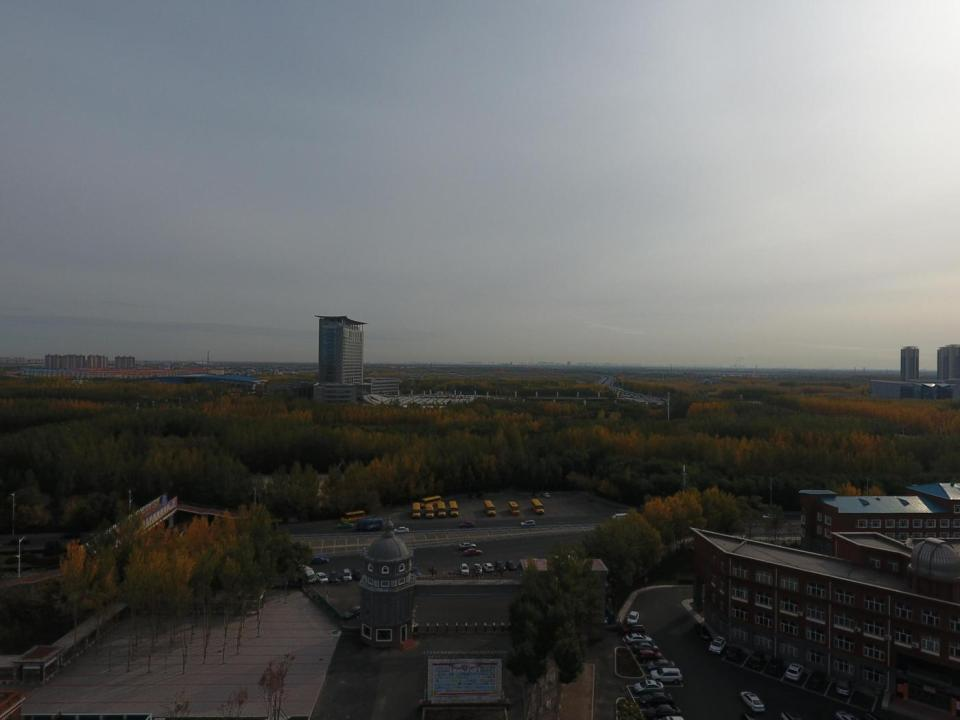bus: (340, 510, 366, 523), (357, 518, 383, 531), (420, 495, 442, 508), (531, 499, 545, 516), (483, 500, 496, 518), (508, 501, 521, 515), (449, 501, 459, 518), (437, 501, 446, 519), (412, 502, 420, 520), (425, 504, 434, 518)
car: (740, 690, 765, 712), (650, 668, 682, 684), (639, 691, 673, 706), (646, 705, 682, 719), (634, 679, 664, 694), (785, 662, 804, 682), (809, 669, 826, 691), (646, 658, 674, 671), (708, 636, 726, 655), (693, 621, 710, 641), (626, 633, 654, 644), (747, 651, 764, 668), (767, 658, 783, 676), (621, 624, 646, 635), (633, 642, 659, 652), (638, 650, 662, 660), (835, 710, 859, 720), (725, 647, 742, 661), (342, 606, 361, 618), (836, 678, 849, 695), (464, 547, 482, 557), (627, 610, 639, 625), (310, 556, 328, 564), (316, 572, 328, 584), (459, 520, 476, 528), (460, 562, 469, 577), (342, 569, 352, 582), (353, 569, 363, 582), (336, 521, 352, 529), (520, 519, 535, 527), (411, 566, 421, 578), (506, 560, 517, 570), (473, 563, 482, 575), (761, 513, 776, 520), (393, 526, 410, 532), (459, 542, 476, 548), (484, 563, 494, 573), (476, 492, 484, 499), (533, 490, 540, 498), (542, 492, 550, 498)
truck: (290, 564, 316, 586), (612, 513, 629, 520)
van: (780, 711, 803, 720), (864, 712, 882, 720), (328, 570, 338, 584), (495, 560, 505, 572)
